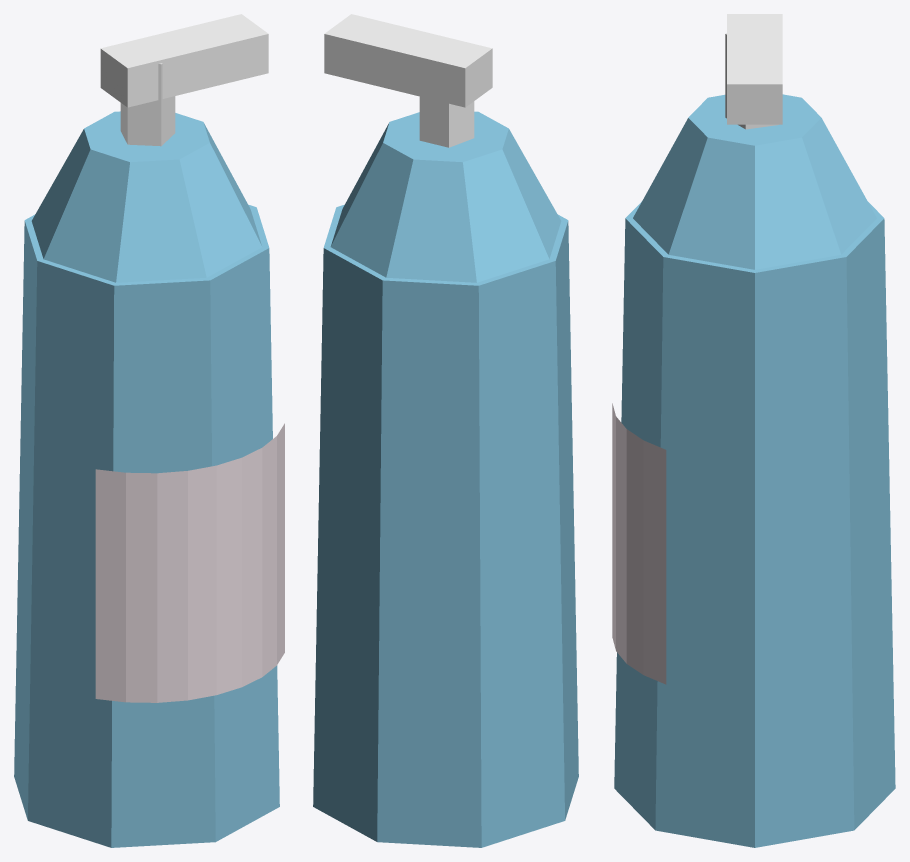
The model's file is shampoo_bottle.glb.
3 views of the same model, side by side, from view 1: azimuth 30°, elevation 25°; view 2: azimuth 150°, elevation 25°; view 3: azimuth 270°, elevation 25° (orthographic). The views are drawn at different scales.
Visible parts, largest first — view 1: bottle_shampoo, bottle_shampoo_label, pump_shampoo_pump; view 2: bottle_shampoo, pump_shampoo_pump; view 3: bottle_shampoo, bottle_shampoo_label, pump_shampoo_pump.
Part boxes in pixels (x1,y1,x2,y2): bottle_shampoo: (14, 111, 279, 847); bottle_shampoo_label: (95, 423, 284, 702); pump_shampoo_pump: (100, 14, 268, 146); bottle_shampoo: (313, 111, 578, 847); pump_shampoo_pump: (324, 14, 492, 147); bottle_shampoo: (614, 94, 895, 847); bottle_shampoo_label: (612, 403, 666, 684); pump_shampoo_pump: (725, 14, 782, 129).
Bounding box in the file's own units: 0.076 × 0.226 × 0.0765.
